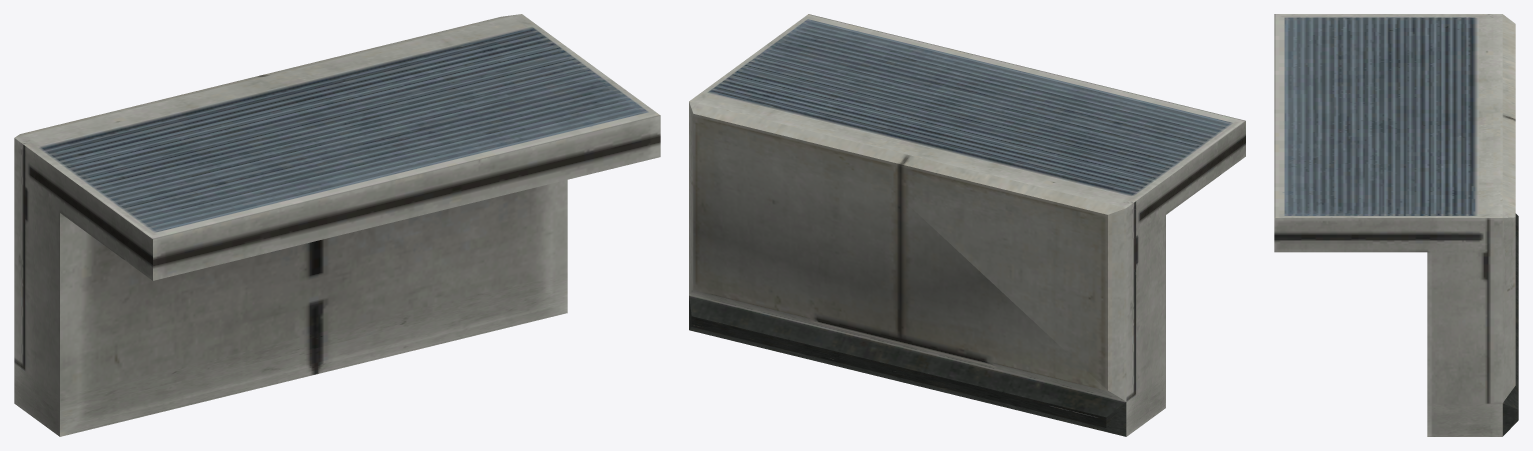
Rendered from Neon_CounterTop_01.FBX.
The picture shows the model from 3 angles, left to right: view 1: azimuth 30°, elevation 25°; view 2: azimuth 150°, elevation 25°; view 3: azimuth 270°, elevation 25°; orthographic projection. The views are drawn at different scales.
Parts seen in each view (by area): view 1: Neon_CounterTop_01; view 2: Neon_CounterTop_01; view 3: Neon_CounterTop_01.
Part boxes in pixels (x1=…): Neon_CounterTop_01: x1=14, y1=14, x2=660, y2=436; Neon_CounterTop_01: x1=689, y1=14, x2=1245, y2=436; Neon_CounterTop_01: x1=1274, y1=14, x2=1518, y2=436.
Bounding box in the file's own units: 2 × 0.9999 × 1.01.
